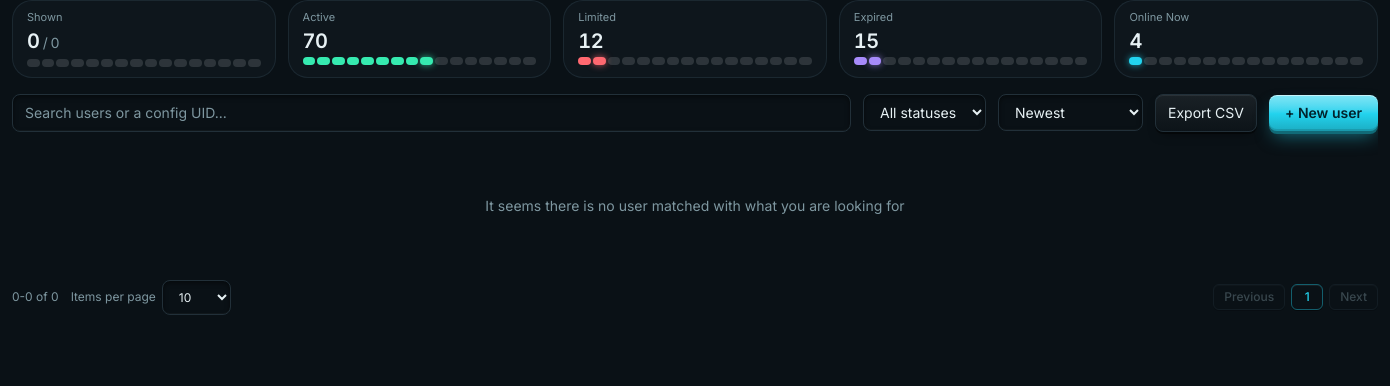
it: Users list failures › says an export failed, and clears that on the next try
Click the button "Export CSV". click: (1206, 113)
box: [1155, 94, 1257, 132]
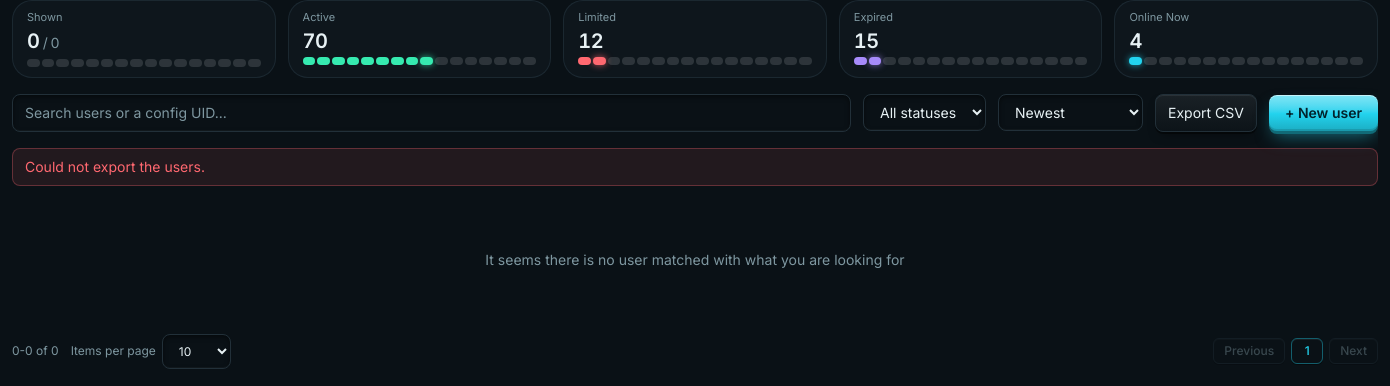
Check: the message reads "Could not export the users.", box [25, 158, 205, 175]
Click the button "Export CSV". click: (1206, 113)
box: [1155, 94, 1257, 132]
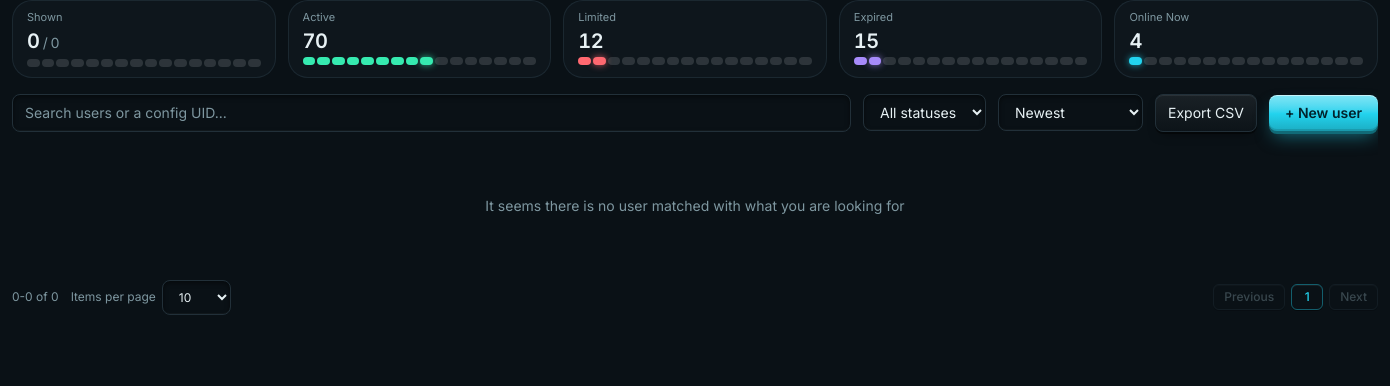
Check: the message "Could not export the users." is gone
